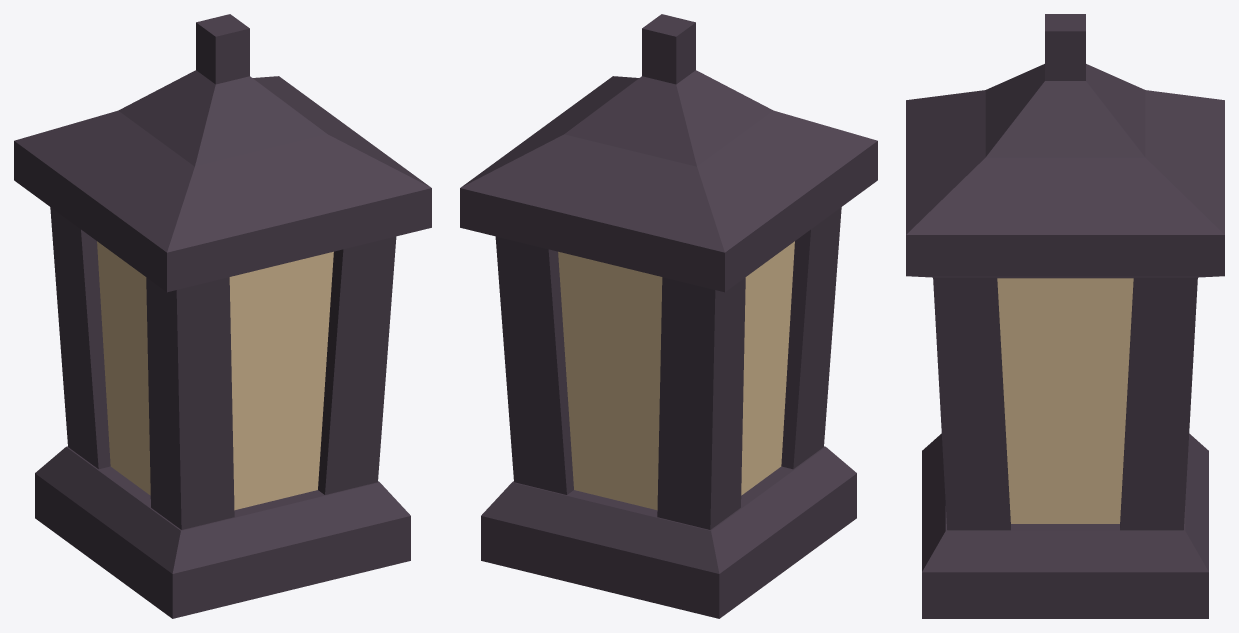
Rendered from Lantern.glb.
3 views of the same model, side by side, from view 1: azimuth 30°, elevation 25°; view 2: azimuth 150°, elevation 25°; view 3: azimuth 270°, elevation 25° (orthographic). The views are drawn at different scales.
Visible parts, largest first — view 1: Top, Bars, Base, Center; view 2: Top, Bars, Base, Center; view 3: Top, Bars, Center, Base.
Part boxes in pixels (bbox=[...]): Top: bbox=[14, 14, 431, 292]; Bars: bbox=[50, 207, 396, 529]; Base: bbox=[35, 446, 410, 618]; Center: bbox=[97, 241, 333, 510]; Top: bbox=[460, 14, 877, 292]; Bars: bbox=[495, 207, 841, 529]; Base: bbox=[481, 446, 856, 618]; Center: bbox=[558, 241, 794, 510]; Top: bbox=[906, 14, 1224, 278]; Bars: bbox=[933, 277, 1197, 530]; Center: bbox=[997, 278, 1133, 523]; Base: bbox=[922, 433, 1208, 618].
Bounding box in the file's own units: 0.9996 × 1.85 × 0.9996.
